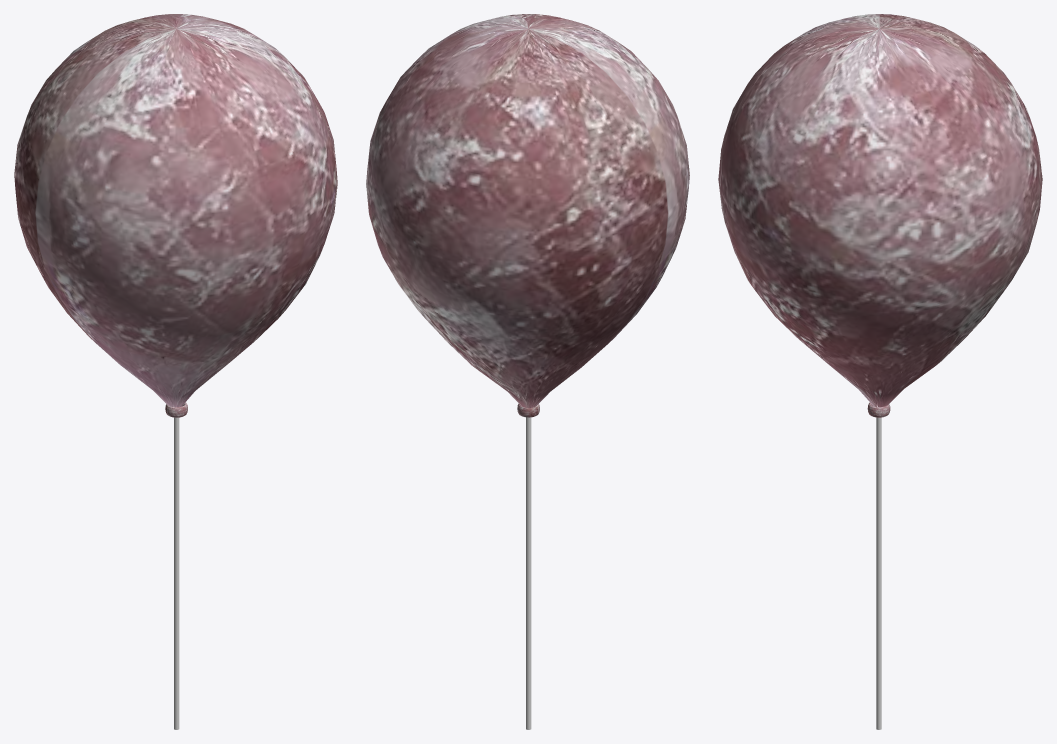
The model's file is balloon_pink_2.glb.
3 views of the same model, side by side, from view 1: azimuth 30°, elevation 25°; view 2: azimuth 150°, elevation 25°; view 3: azimuth 270°, elevation 25° (orthographic).
Visible parts, largest first — view 1: Sphere.002, Cylinder.002; view 2: Sphere.002, Cylinder.002; view 3: Sphere.002, Cylinder.002.
Part boxes in pixels (x1,y1,x2,y2): Sphere.002: (14,14,337,407); Cylinder.002: (174,417,179,729); Sphere.002: (366,14,689,407); Cylinder.002: (526,417,531,729); Sphere.002: (718,14,1042,407); Cylinder.002: (876,417,881,729).
Bounding box in the file's own units: 2 × 4.76 × 2.
Materials: 2 (2 with a texture image).
